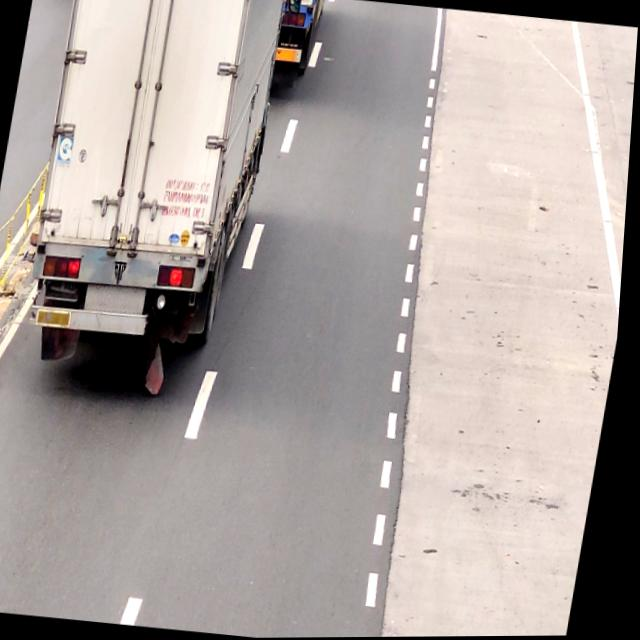Truck: (14, 0, 283, 387)
